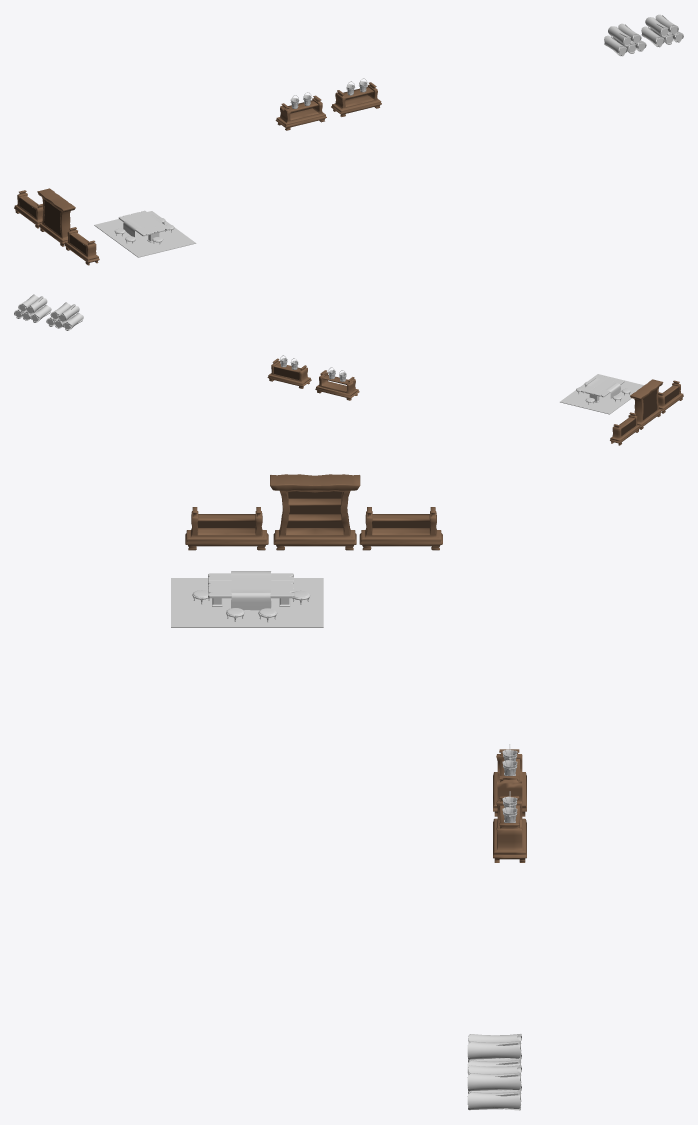
Rendered from ItensDecorcao.fbx.
3 views of the same model, one above another, from view 1: azimuth 30°, elevation 25°; view 2: azimuth 150°, elevation 25°; view 3: azimuth 270°, elevation 25° (orthographic). The views are drawn at different scales.
Parts seen in each view (by area): view 1: TapeteRetangular, Estante, Estante.003, Estante.004, Estante.001, Estante.002, MesaCesta, PanoMesaCompetidor; view 2: TapeteRetangular, Estante, Estante.003, Estante.004, Estante.002, Estante.001, MesaCesta, PanoMesaCompetidor; view 3: Estante, TapeteRetangular, Estante.002, Estante.001, Estante.004, PanoMesaCompetidor, MesaCesta, Estante.003, Madeira.008, Madeira.002, Madeira.003.
Boxes of the visible parts, <box> form: TapeteRetangular: <box>94,211,196,257</box>; Estante: <box>37,188,75,246</box>; Estante.003: <box>275,95,326,130</box>; Estante.004: <box>331,82,381,116</box>; Estante.001: <box>64,227,99,265</box>; Estante.002: <box>14,190,43,228</box>; MesaCesta: <box>118,210,169,242</box>; PanoMesaCompetidor: <box>123,214,164,236</box>; TapeteRetangular: <box>560,374,643,414</box>; Estante: <box>630,379,663,429</box>; Estante.003: <box>315,370,359,400</box>; Estante.004: <box>267,358,311,388</box>; Estante.002: <box>610,412,640,445</box>; Estante.001: <box>658,380,683,413</box>; MesaCesta: <box>581,375,624,402</box>; PanoMesaCompetidor: <box>585,378,620,398</box>; Estante: <box>270,474,360,550</box>; TapeteRetangular: <box>171,578,323,627</box>; Estante.002: <box>359,507,442,550</box>; Estante.001: <box>185,507,268,550</box>; Estante.004: <box>493,796,526,862</box>; PanoMesaCompetidor: <box>231,571,271,610</box>; MesaCesta: <box>208,573,293,606</box>; Estante.003: <box>493,749,526,816</box>; Madeira.008: <box>467,1041,520,1059</box>; Madeira.002: <box>467,1091,520,1110</box>; Madeira.003: <box>467,1072,520,1091</box>.
Size of the model in its own units: 8110 by 442 by 2130.
